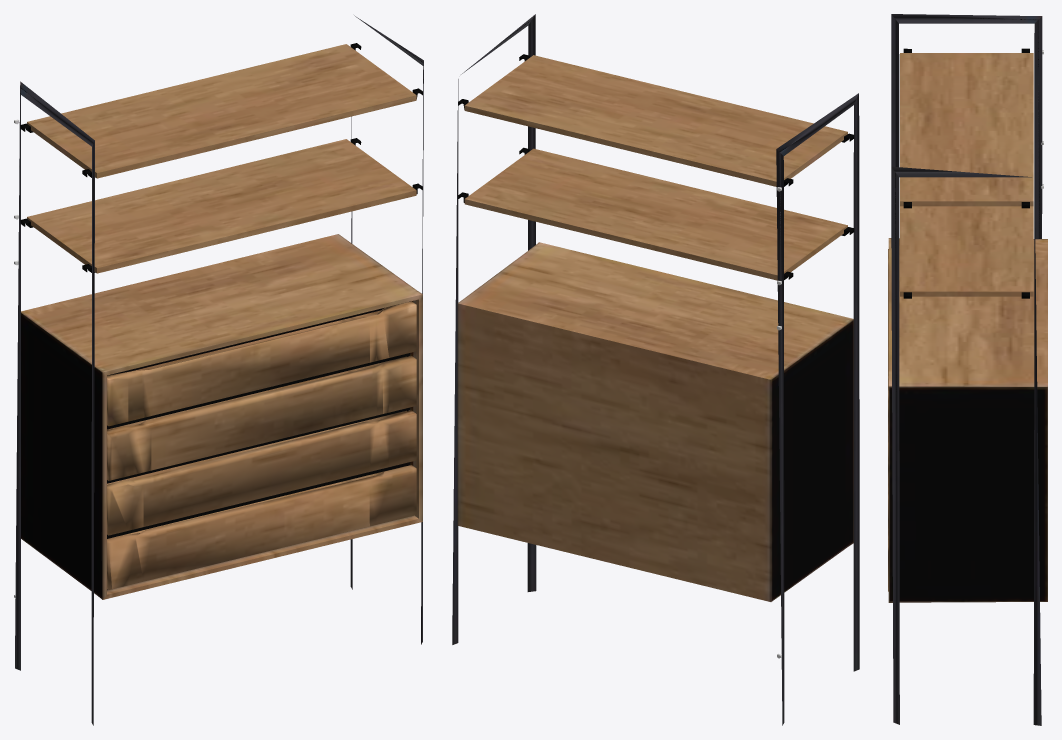
The model's file is cabinet_drawers.glb.
The picture shows the model from 3 angles, left to right: view 1: azimuth 30°, elevation 25°; view 2: azimuth 150°, elevation 25°; view 3: azimuth 270°, elevation 25°; orthographic projection. The views are drawn at different scales.
Visible parts, largest first — view 1: drawer_cabinet; view 2: drawer_cabinet; view 3: drawer_cabinet.
Boxes of the visible parts, x1,y1,x2,y2 form: drawer_cabinet: [14, 15, 423, 725]; drawer_cabinet: [452, 14, 859, 725]; drawer_cabinet: [888, 14, 1047, 725].
Bounding box in the file's own units: 1.13 × 1.88 × 0.4881.
1 material, 1 textured.
